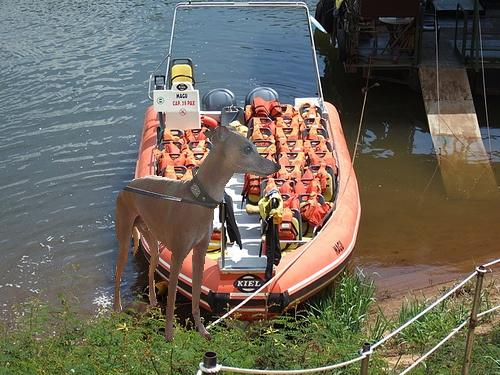tampered: (115, 127, 281, 343)
